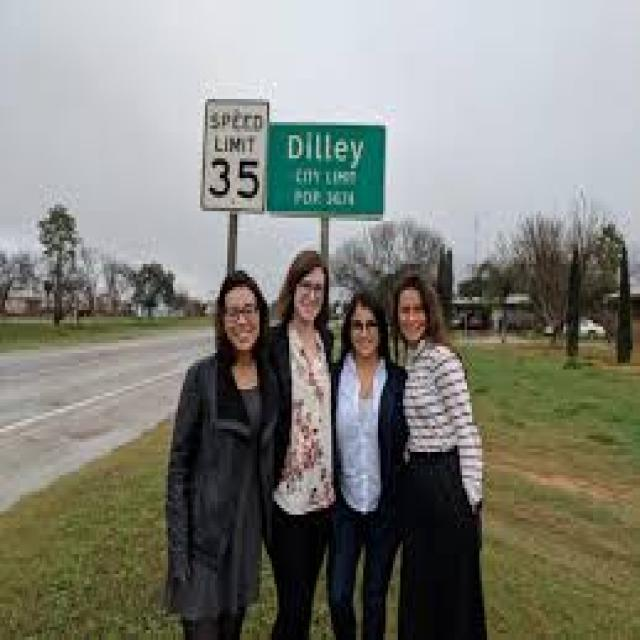speedLimit35: (200, 92, 272, 221)
